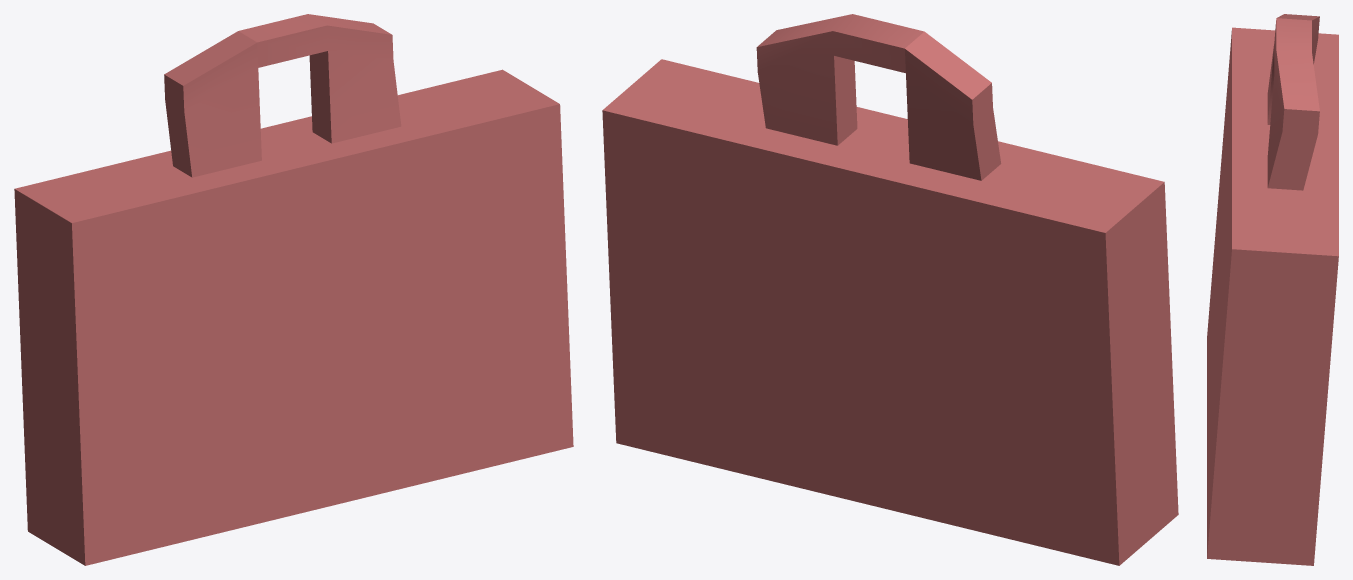
The model's file is test_holo.fbx.
The picture shows the model from 3 angles, left to right: view 1: azimuth 30°, elevation 25°; view 2: azimuth 150°, elevation 25°; view 3: azimuth 270°, elevation 25°; orthographic projection. The views are drawn at different scales.
Visible parts, largest first — view 1: polySurface642; view 2: polySurface642; view 3: polySurface642.
Boxes of the visible parts, x1=… form: polySurface642: x1=14, y1=14, x2=573, y2=565; polySurface642: x1=602, y1=14, x2=1178, y2=565; polySurface642: x1=1207, y1=14, x2=1338, y2=565.
Bounding box in the file's own units: 82.62 × 73.22 × 20.78.
